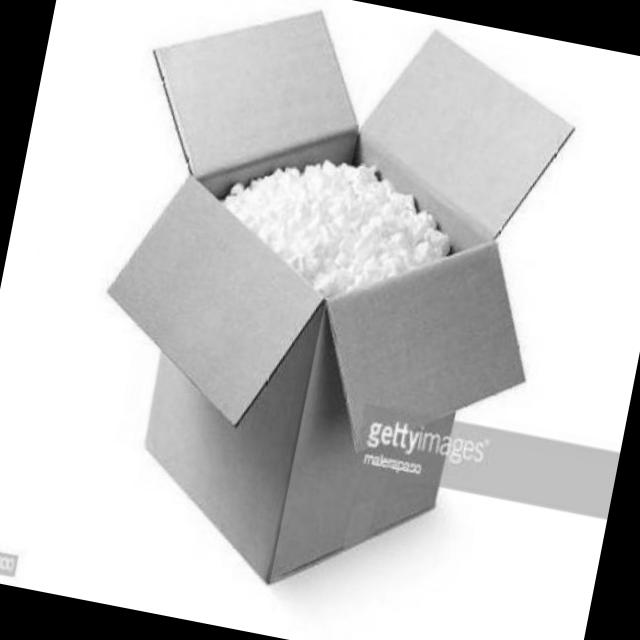box: (43, 0, 604, 631)
